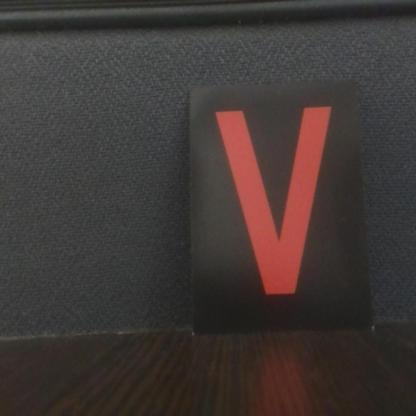v: (190, 80, 375, 332)
